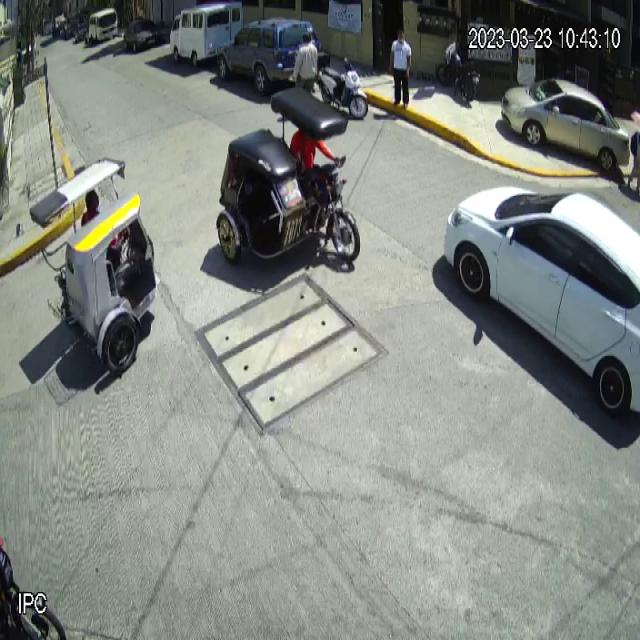Car: (444, 183, 640, 418), (501, 78, 630, 171), (216, 16, 323, 96)
Motorcycle: (312, 54, 368, 120)
Tricycle: (29, 155, 160, 368), (216, 86, 359, 266)
Van: (169, 0, 242, 69)
